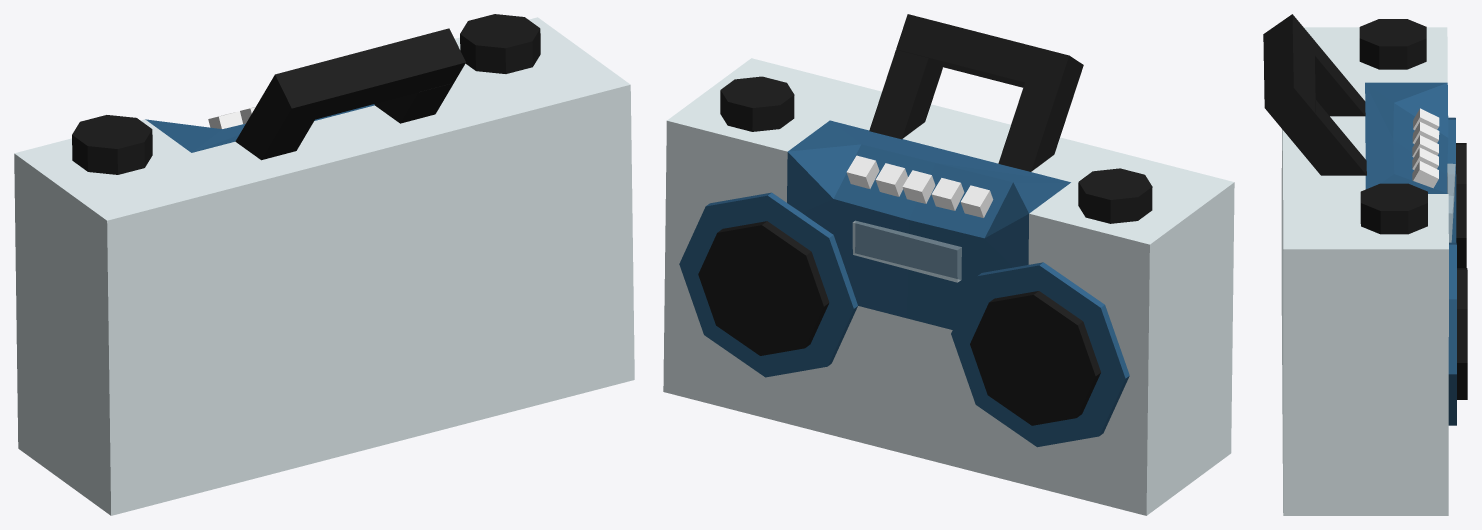
The model's file is boombox.gltf.
3 views of the same model, side by side, from view 1: azimuth 30°, elevation 25°; view 2: azimuth 150°, elevation 25°; view 3: azimuth 270°, elevation 25° (orthographic). The views are drawn at different scales.
Visible parts, largest first — view 1: group799403676; view 2: group799403676; view 3: group799403676.
Part boxes in pixels (box(x1,y1,x2,y2)): group799403676: box(14, 14, 634, 515); group799403676: box(663, 14, 1234, 515); group799403676: box(1263, 14, 1467, 515).
Bounding box in the file's own units: 0.5019 × 0.3617 × 0.1877.
